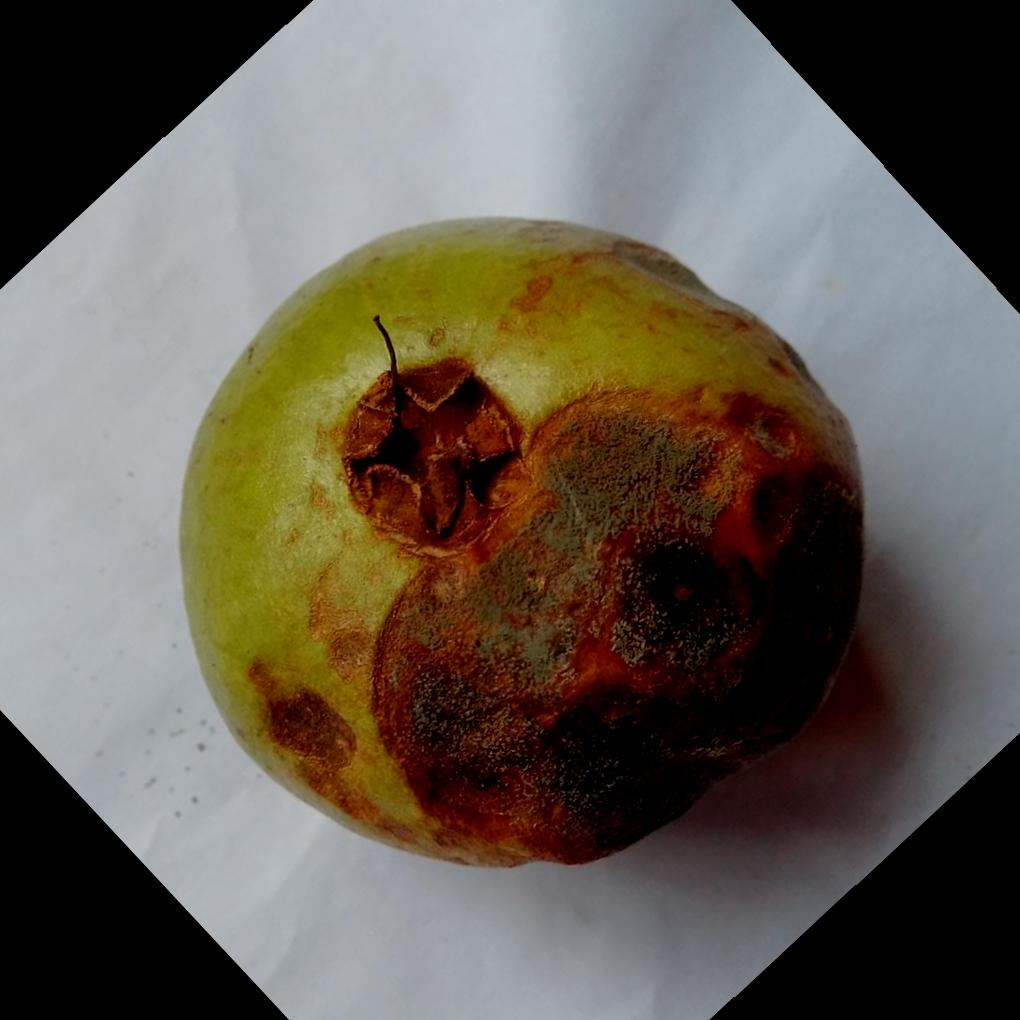FreshOrange: (174, 219, 865, 873)
